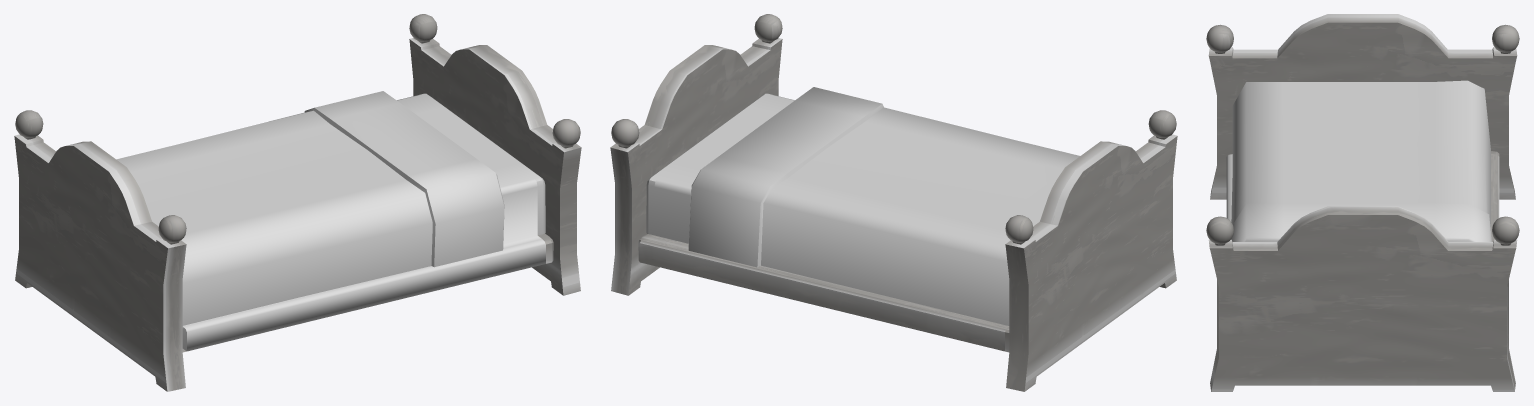
File: bed_trimmed.fbx
3 views of the same model, side by side, from view 1: azimuth 30°, elevation 25°; view 2: azimuth 150°, elevation 25°; view 3: azimuth 270°, elevation 25° (orthographic).
Parts seen in each view (by area): view 1: Plane.007, bed.000, bed.010; view 2: Plane.007, bed.000, bed.010; view 3: bed.000, Plane.007, bed.010.
Boxes of the visible parts, x1,y1,x2,y2 form: Plane.007: (116, 91, 504, 327); bed.000: (14, 14, 581, 391); bed.010: (182, 95, 545, 351); Plane.007: (688, 87, 1079, 325); bed.000: (610, 14, 1177, 391); bed.010: (654, 95, 794, 243); bed.000: (1206, 14, 1519, 391); Plane.007: (1231, 80, 1491, 241); bed.010: (1226, 154, 1232, 221).
Bounding box in the file's own units: 308 × 125 × 200.
